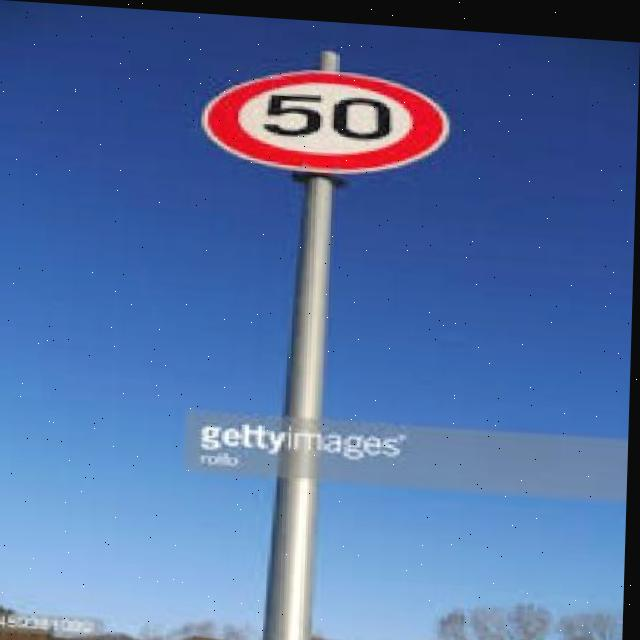Speed limit 50: (197, 53, 454, 180)
